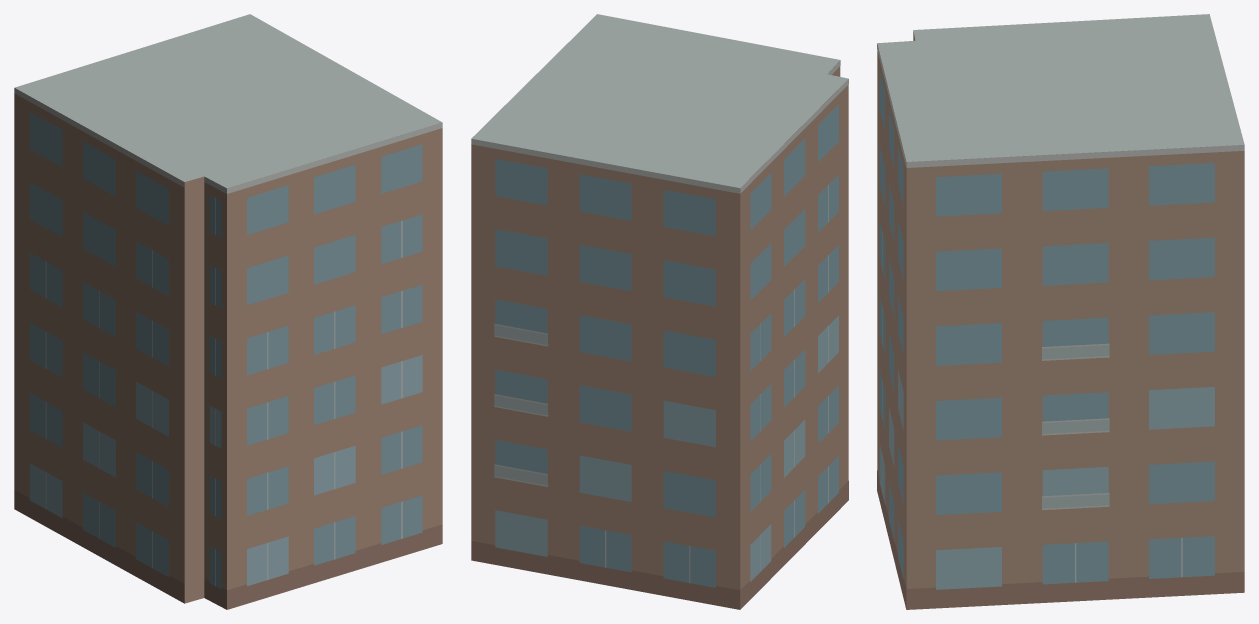
File: survey-upis-32599946.glb
3 renders of one model, left to right at view 1: azimuth 30°, elevation 25°; view 2: azimuth 150°, elevation 25°; view 3: azimuth 270°, elevation 25°, orthographic. The views are drawn at different scales.
Parts seen in each view (by area): view 1: survey-upis-32599946.tmp; view 2: survey-upis-32599946.tmp; view 3: survey-upis-32599946.tmp.
Boxes of the visible parts, left/top/right/bottom form: survey-upis-32599946.tmp: left=14, top=14, right=442, bottom=609; survey-upis-32599946.tmp: left=471, top=14, right=848, bottom=609; survey-upis-32599946.tmp: left=877, top=14, right=1244, bottom=609.
Size of the model in its own units: 12.99 by 18.3 by 13.62.
